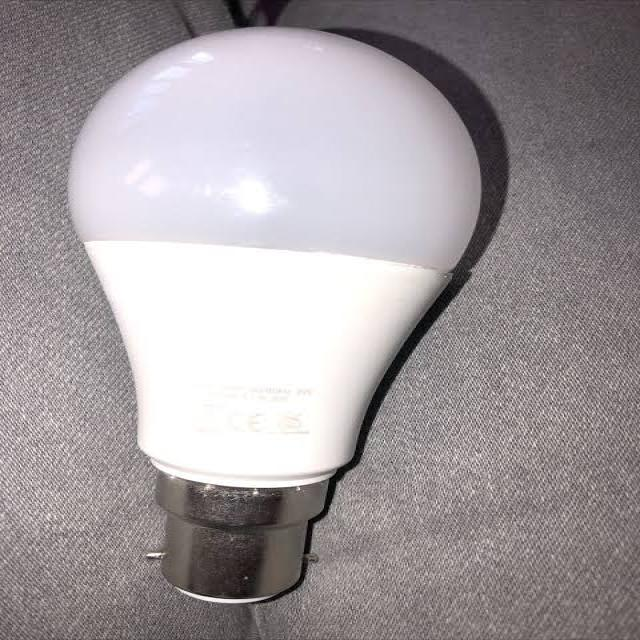bulb: (33, 23, 528, 626)
